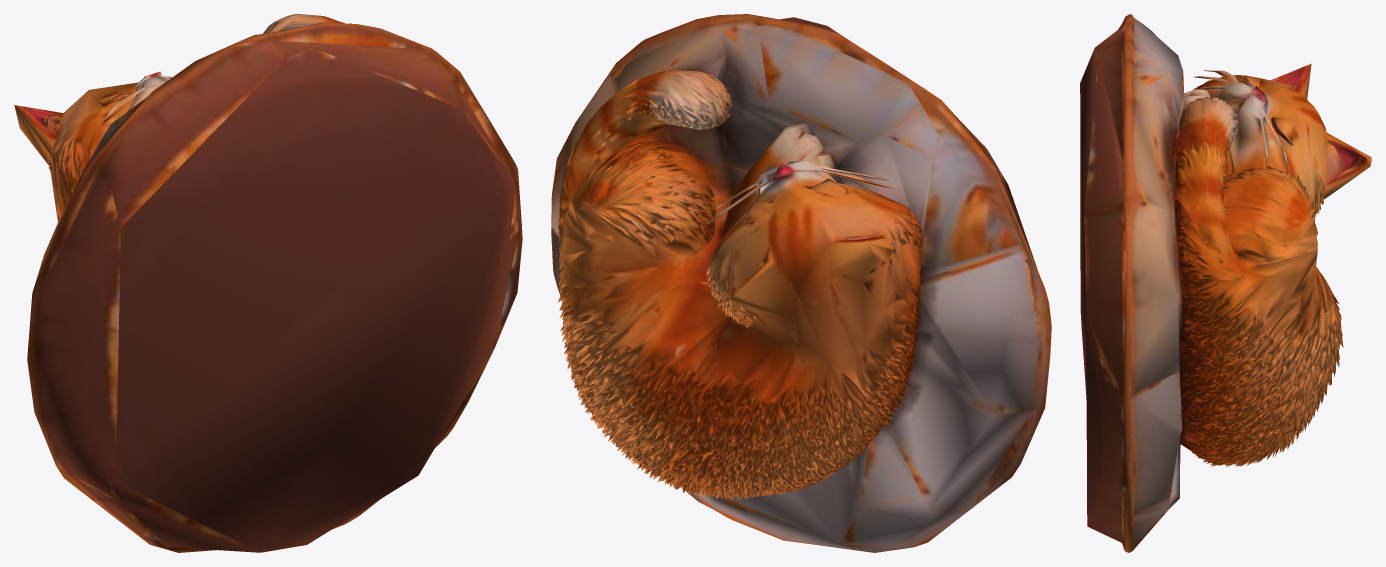
3 views of the same model, side by side, from view 1: azimuth 30°, elevation 25°; view 2: azimuth 150°, elevation 25°; view 3: azimuth 270°, elevation 25° (orthographic). The views are drawn at different scales.
Visible parts, largest first — view 1: material; view 2: material; view 3: material.
Boxes of the visible parts, x1,y1,x2,y2 form: material: (14,14,522,552); material: (551,14,1051,552); material: (1080,14,1371,552).
Size of the model in its own units: 1 by 0.9995 by 0.5437.
Materials: 1 (1 with a texture image).
